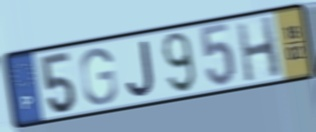5: (196, 20, 238, 91), (37, 48, 78, 116)
9: (159, 30, 198, 95)
G: (78, 46, 119, 107)
H: (234, 13, 284, 85)
J: (125, 38, 157, 99)
